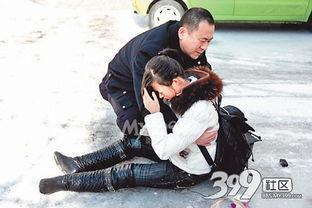Fall-Detected: (31, 52, 246, 198)
